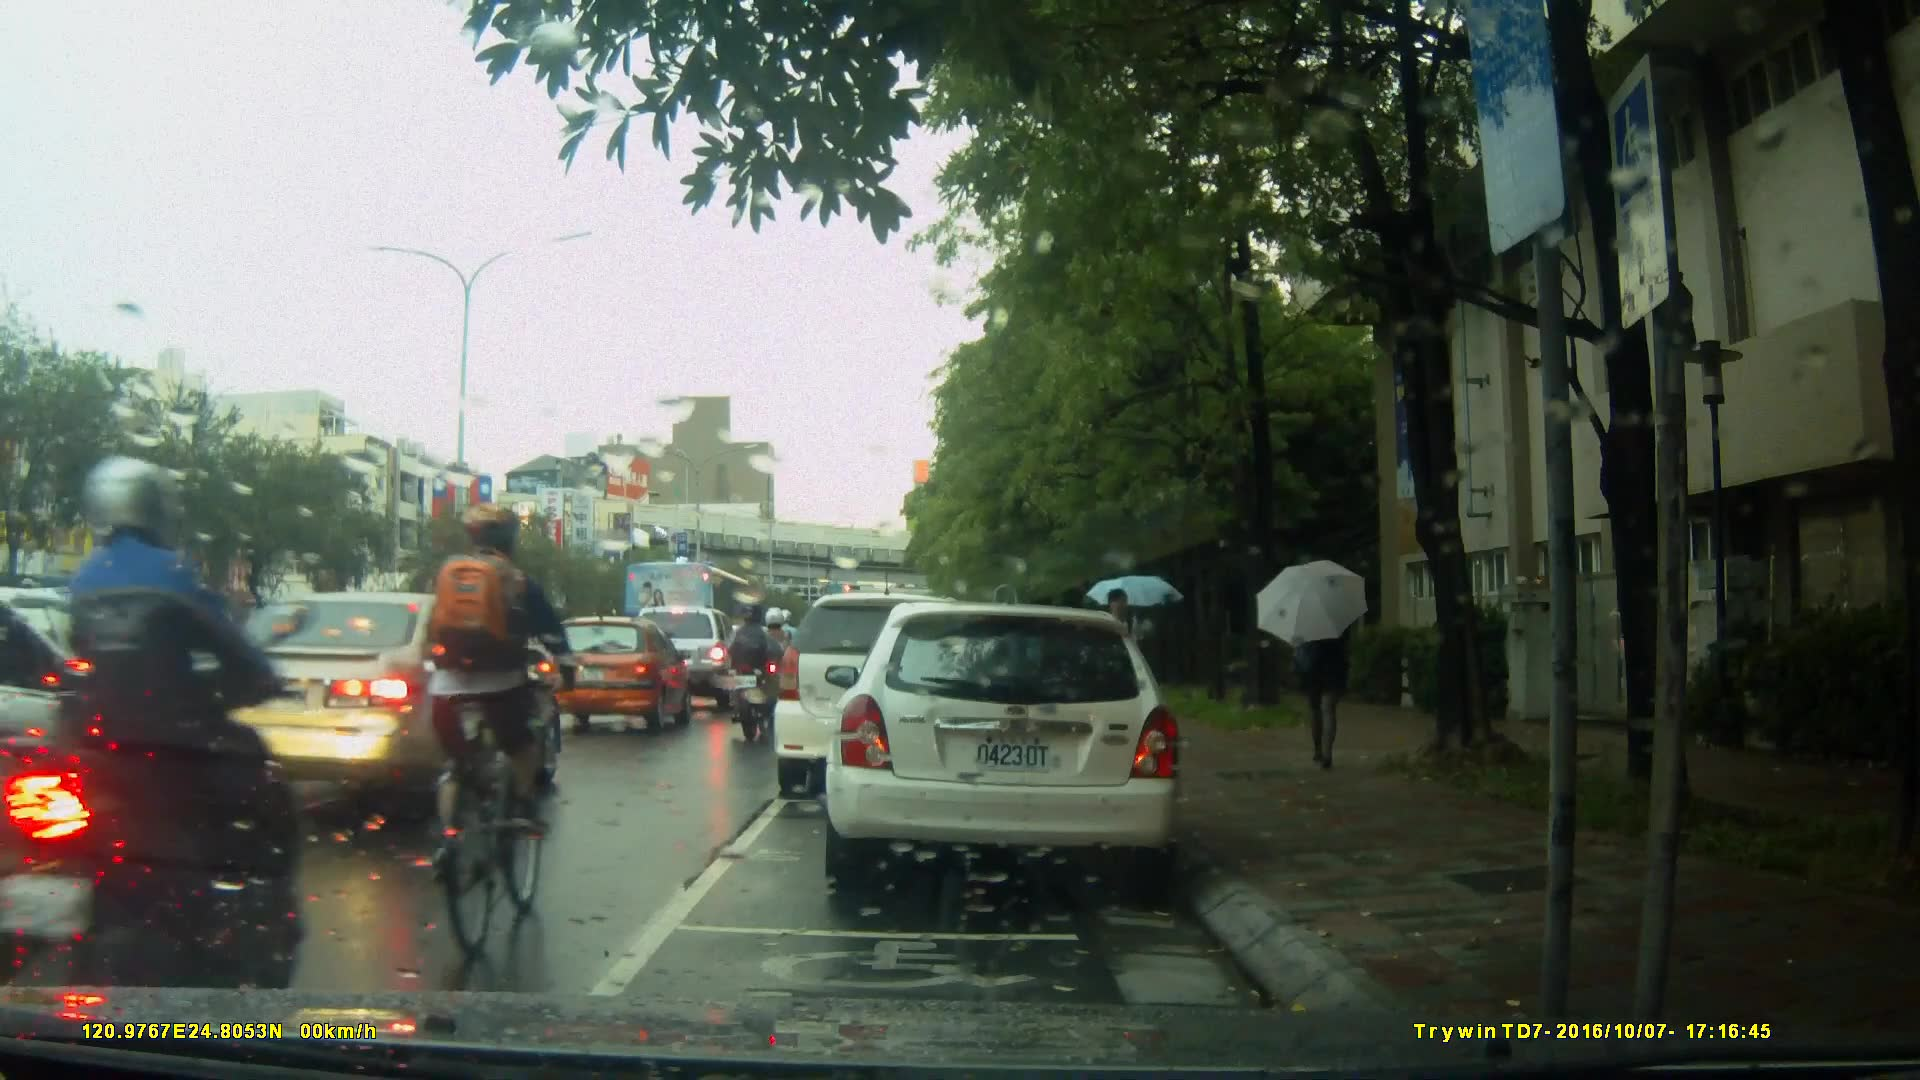pedestrian: (1283, 571, 1363, 770), (1107, 574, 1153, 771)
rider: (5, 462, 313, 1057), (403, 503, 578, 951), (723, 608, 775, 739), (755, 605, 798, 715)
vehicle: (835, 594, 1194, 898), (173, 588, 568, 822), (776, 590, 1026, 784), (535, 617, 698, 730), (623, 559, 761, 673)
